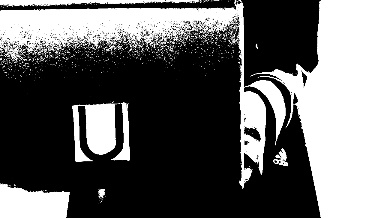U: (72, 103, 129, 161)
